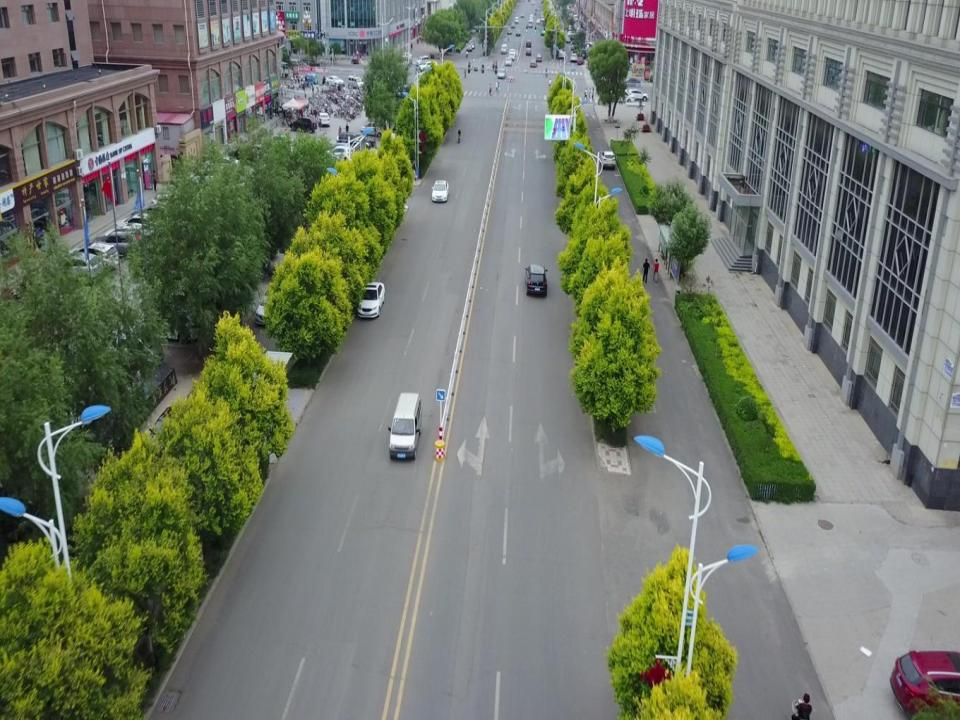car: (888, 644, 960, 715), (253, 280, 298, 328), (54, 251, 103, 288), (69, 241, 117, 278), (96, 228, 144, 264), (109, 211, 156, 247), (355, 282, 385, 318), (526, 264, 548, 298), (323, 143, 353, 164), (360, 121, 396, 138), (337, 131, 373, 148), (328, 145, 364, 162), (432, 179, 448, 202), (290, 118, 316, 132), (624, 90, 648, 102), (608, 90, 632, 102), (600, 152, 615, 170), (328, 74, 344, 86), (622, 76, 642, 84), (317, 115, 331, 126), (420, 62, 436, 71), (398, 52, 412, 58), (497, 68, 505, 78), (530, 59, 538, 67), (576, 57, 584, 65), (525, 48, 532, 56), (525, 40, 532, 48), (570, 54, 578, 61), (558, 50, 565, 57), (506, 58, 512, 65), (515, 29, 521, 36), (508, 54, 515, 60), (537, 53, 542, 61), (509, 49, 515, 55), (467, 45, 473, 51), (542, 30, 546, 38), (508, 27, 512, 34), (511, 24, 516, 28), (536, 20, 540, 24)
van: (387, 392, 423, 461), (347, 76, 363, 86), (415, 55, 429, 65), (500, 43, 507, 54), (528, 19, 533, 27), (514, 16, 518, 23)
